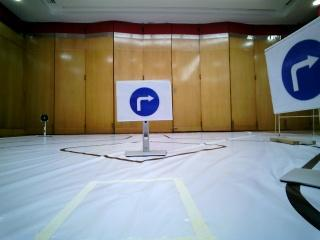right: (269, 46, 320, 103), (115, 80, 170, 118)
